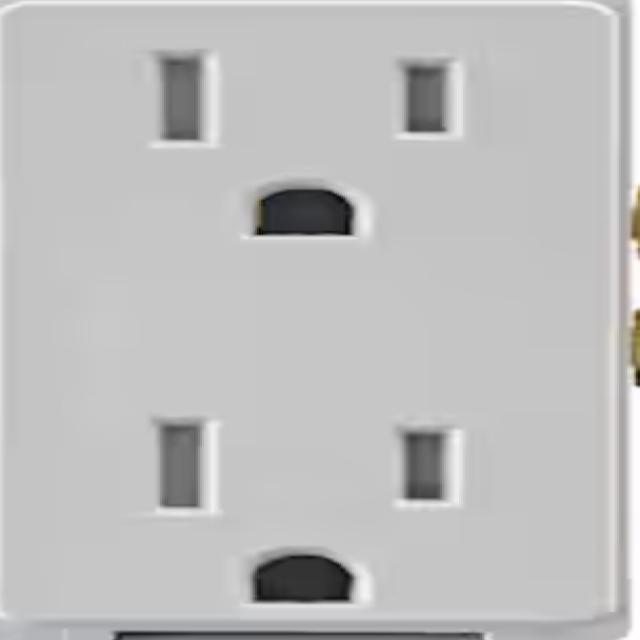type_b: (0, 8, 624, 626), (9, 8, 618, 272), (4, 383, 622, 626)
